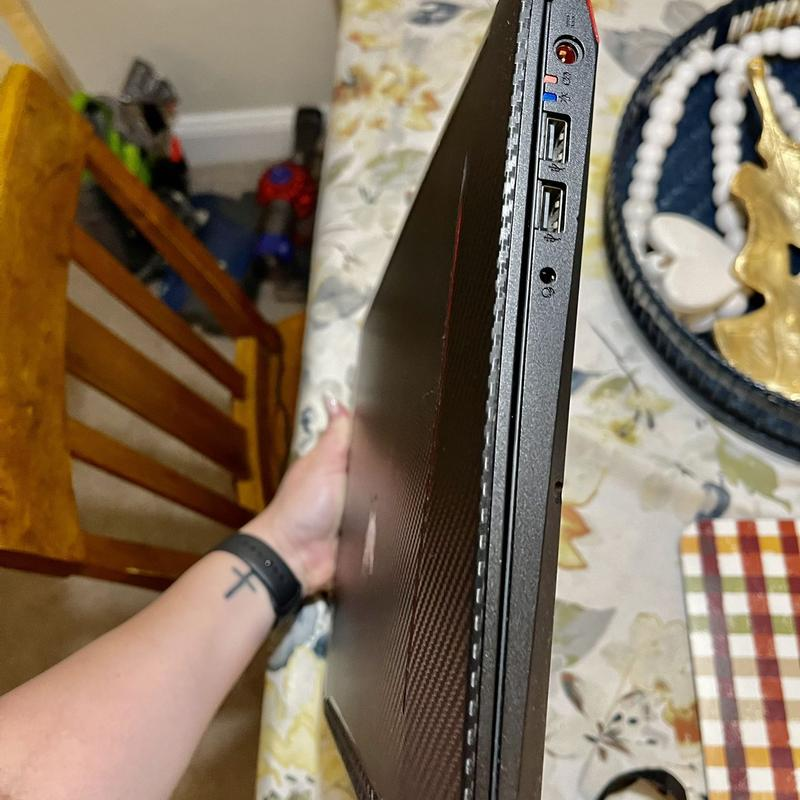AUDIO: (526, 261, 570, 299)
POWER: (548, 27, 594, 74)
USB: (526, 175, 568, 242), (538, 108, 574, 167)
